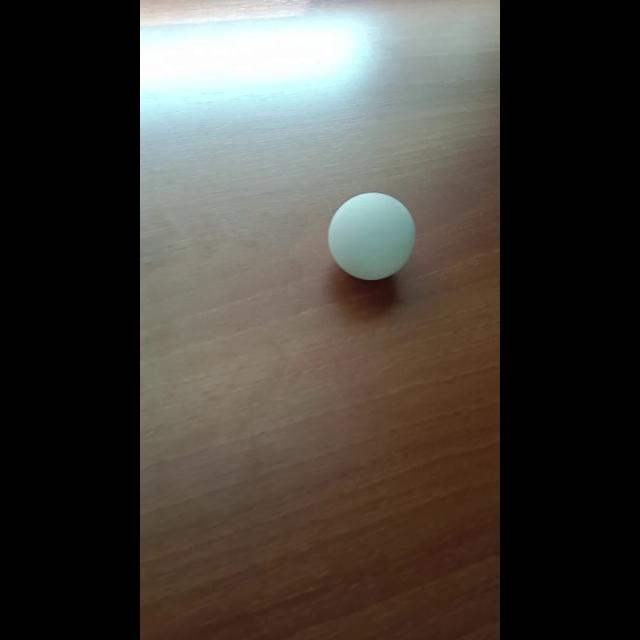white ball: (327, 191, 415, 281)
